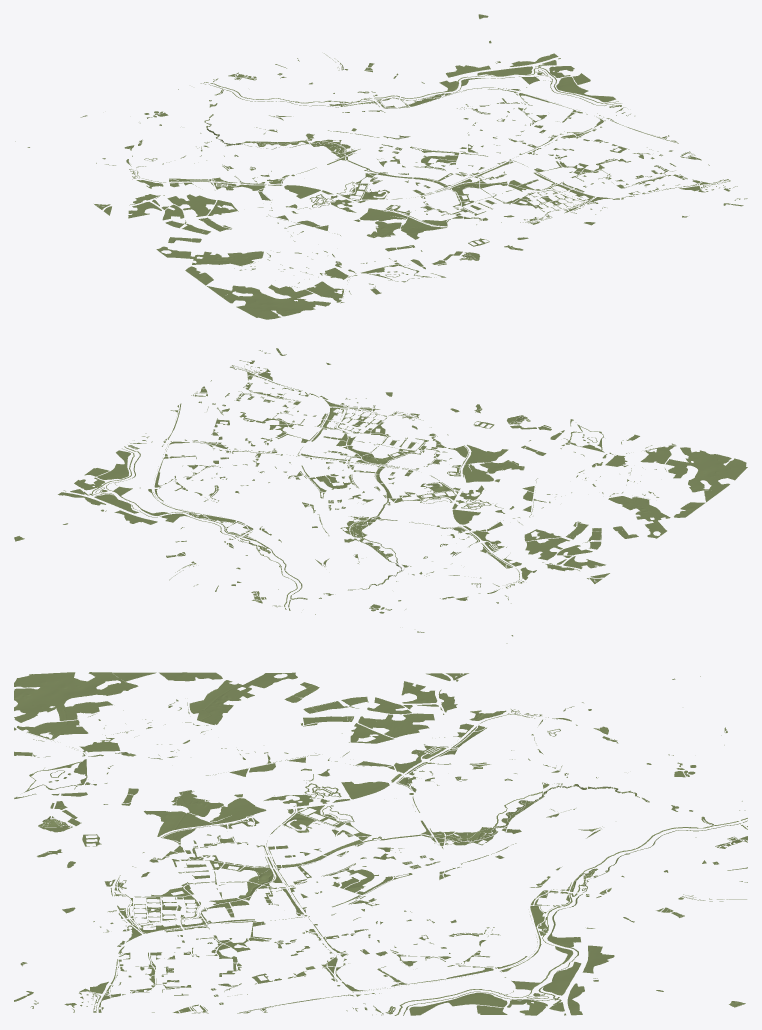
The model's file is vidingsjo_xl_markvegetation.glb.
The picture shows the model from 3 angles, top to bottom: view 1: azimuth 30°, elevation 25°; view 2: azimuth 150°, elevation 25°; view 3: azimuth 270°, elevation 25°; orthographic projection. The views are drawn at different scales.
Visible parts, largest first — view 1: no part large enough to name; view 2: no part large enough to name; view 3: Markvegetation_3_9, Markvegetation_1_18.
Boxes of the visible parts, box(x1,y1,x2,y2) form: Markvegetation_3_9: box(359, 722, 398, 739); Markvegetation_1_18: box(14, 688, 48, 704).
Bounding box in the file's own units: 5170 × 64.17 × 4730.
